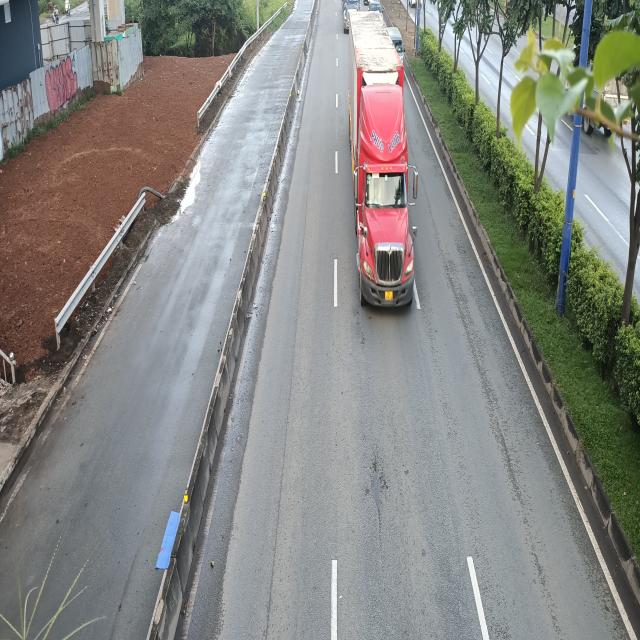container: (349, 11, 421, 307)
